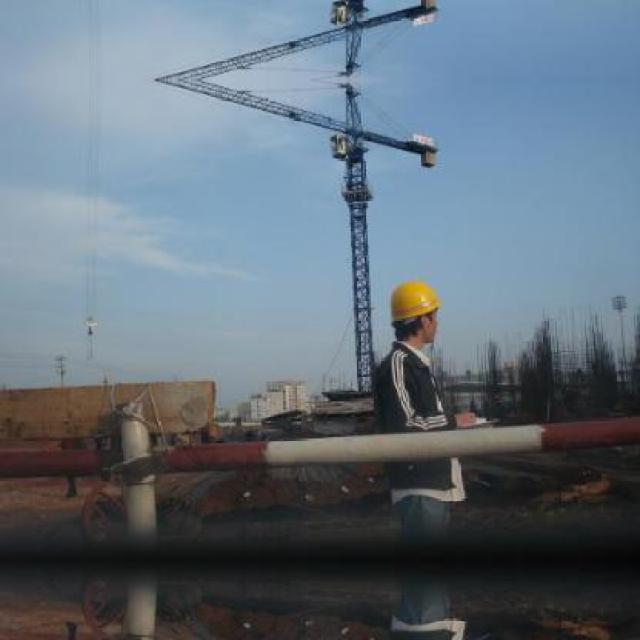helmet: (386, 272, 442, 350)
